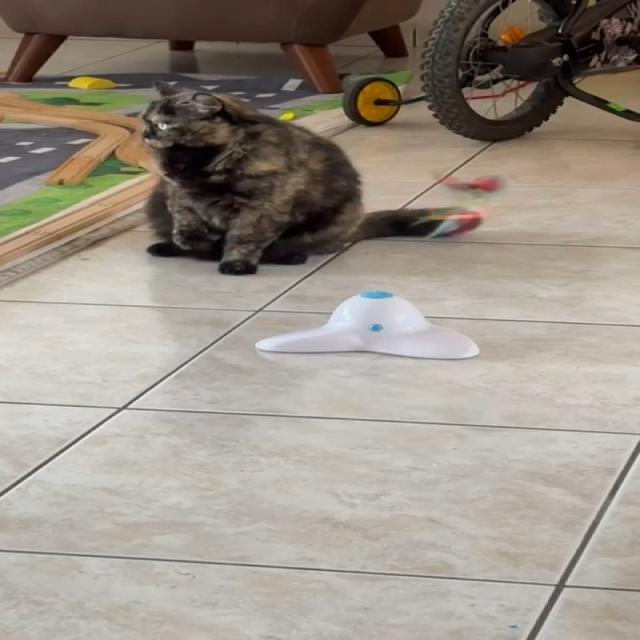authorized: (136, 80, 468, 275)
